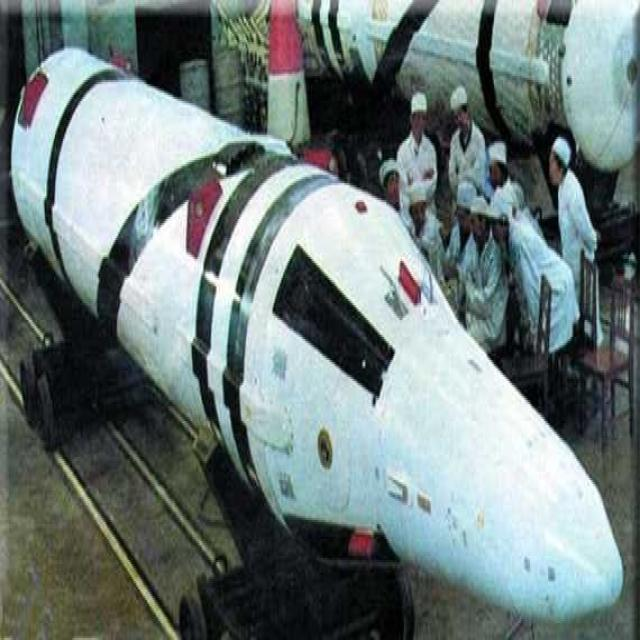missile: (11, 44, 622, 616)
